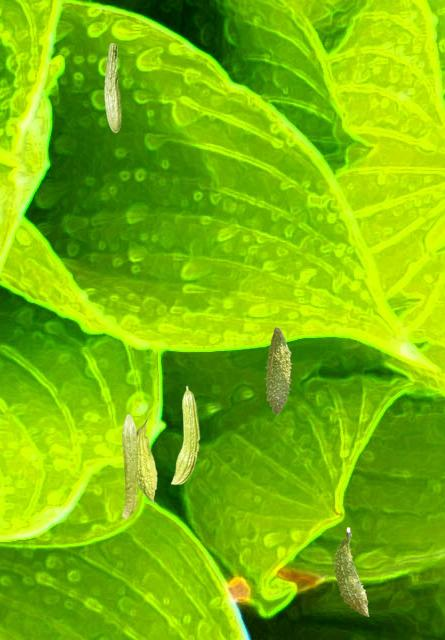ampalaya: (332, 526, 369, 617), (170, 385, 200, 485), (264, 326, 292, 415), (121, 414, 138, 519), (137, 418, 157, 505), (104, 42, 122, 133)
